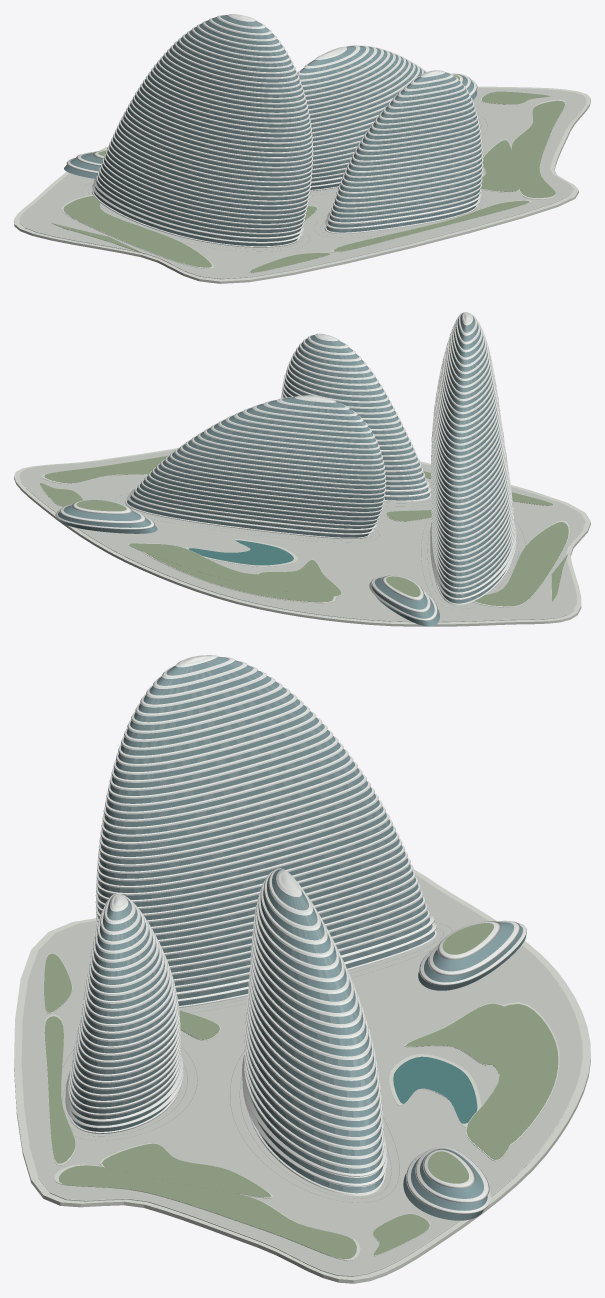
The model's file is journey-wangjing-campus.glb.
3 views of the same model, one above another, from view 1: azimuth 30°, elevation 25°; view 2: azimuth 150°, elevation 25°; view 3: azimuth 270°, elevation 25° (orthographic). The views are drawn at different scales.
Visible parts, largest first — view 1: Wangjing campus | glass, Wangjing campus | pearl, Wangjing campus | plaza, Wangjing campus | glassLight, Wangjing campus | green, Wangjing campus | stone, Wangjing campus | silver; view 2: Wangjing campus | pearl, Wangjing campus | glass, Wangjing campus | plaza, Wangjing campus | green, Wangjing campus | glassLight, Wangjing campus | stone, Wangjing campus | silver, Wangjing campus | water; view 3: Wangjing campus | glass, Wangjing campus | pearl, Wangjing campus | plaza, Wangjing campus | green, Wangjing campus | glassLight, Wangjing campus | stone, Wangjing campus | silver, Wangjing campus | water.
Part boxes in pixels (x1=…): Wangjing campus | glass: x1=64, y1=15, x2=481, y2=246; Wangjing campus | pearl: x1=66, y1=14, x2=483, y2=247; Wangjing campus | plaza: x1=19, y1=88, x2=586, y2=279; Wangjing campus | glassLight: x1=93, y1=15, x2=481, y2=246; Wangjing campus | green: x1=53, y1=75, x2=564, y2=272; Wangjing campus | stone: x1=14, y1=86, x2=590, y2=283; Wangjing campus | silver: x1=81, y1=15, x2=487, y2=251; Wangjing campus | pearl: x1=55, y1=312, x2=516, y2=620; Wangjing campus | glass: x1=58, y1=313, x2=511, y2=626; Wangjing campus | plaza: x1=19, y1=449, x2=585, y2=622; Wangjing campus | green: x1=40, y1=455, x2=568, y2=606; Wangjing campus | glassLight: x1=127, y1=315, x2=510, y2=601; Wangjing campus | stone: x1=14, y1=447, x2=590, y2=626; Wangjing campus | silver: x1=115, y1=317, x2=525, y2=608; Wangjing campus | water: x1=189, y1=540, x2=293, y2=565; Wangjing campus | glass: x1=70, y1=657, x2=526, y2=1220; Wangjing campus | pearl: x1=65, y1=655, x2=526, y2=1214; Wangjing campus | plaza: x1=21, y1=875, x2=582, y2=1276; Wangjing campus | green: x1=44, y1=923, x2=558, y2=1259; Wangjing campus | glassLight: x1=70, y1=656, x2=432, y2=1193; Wangjing campus | stone: x1=14, y1=869, x2=590, y2=1283; Wangjing campus | silver: x1=62, y1=657, x2=452, y2=1202; Wangjing campus | water: x1=393, y1=1056, x2=477, y2=1123.
Size of the model in its own units: 11.08 by 4.05 by 6.43.
